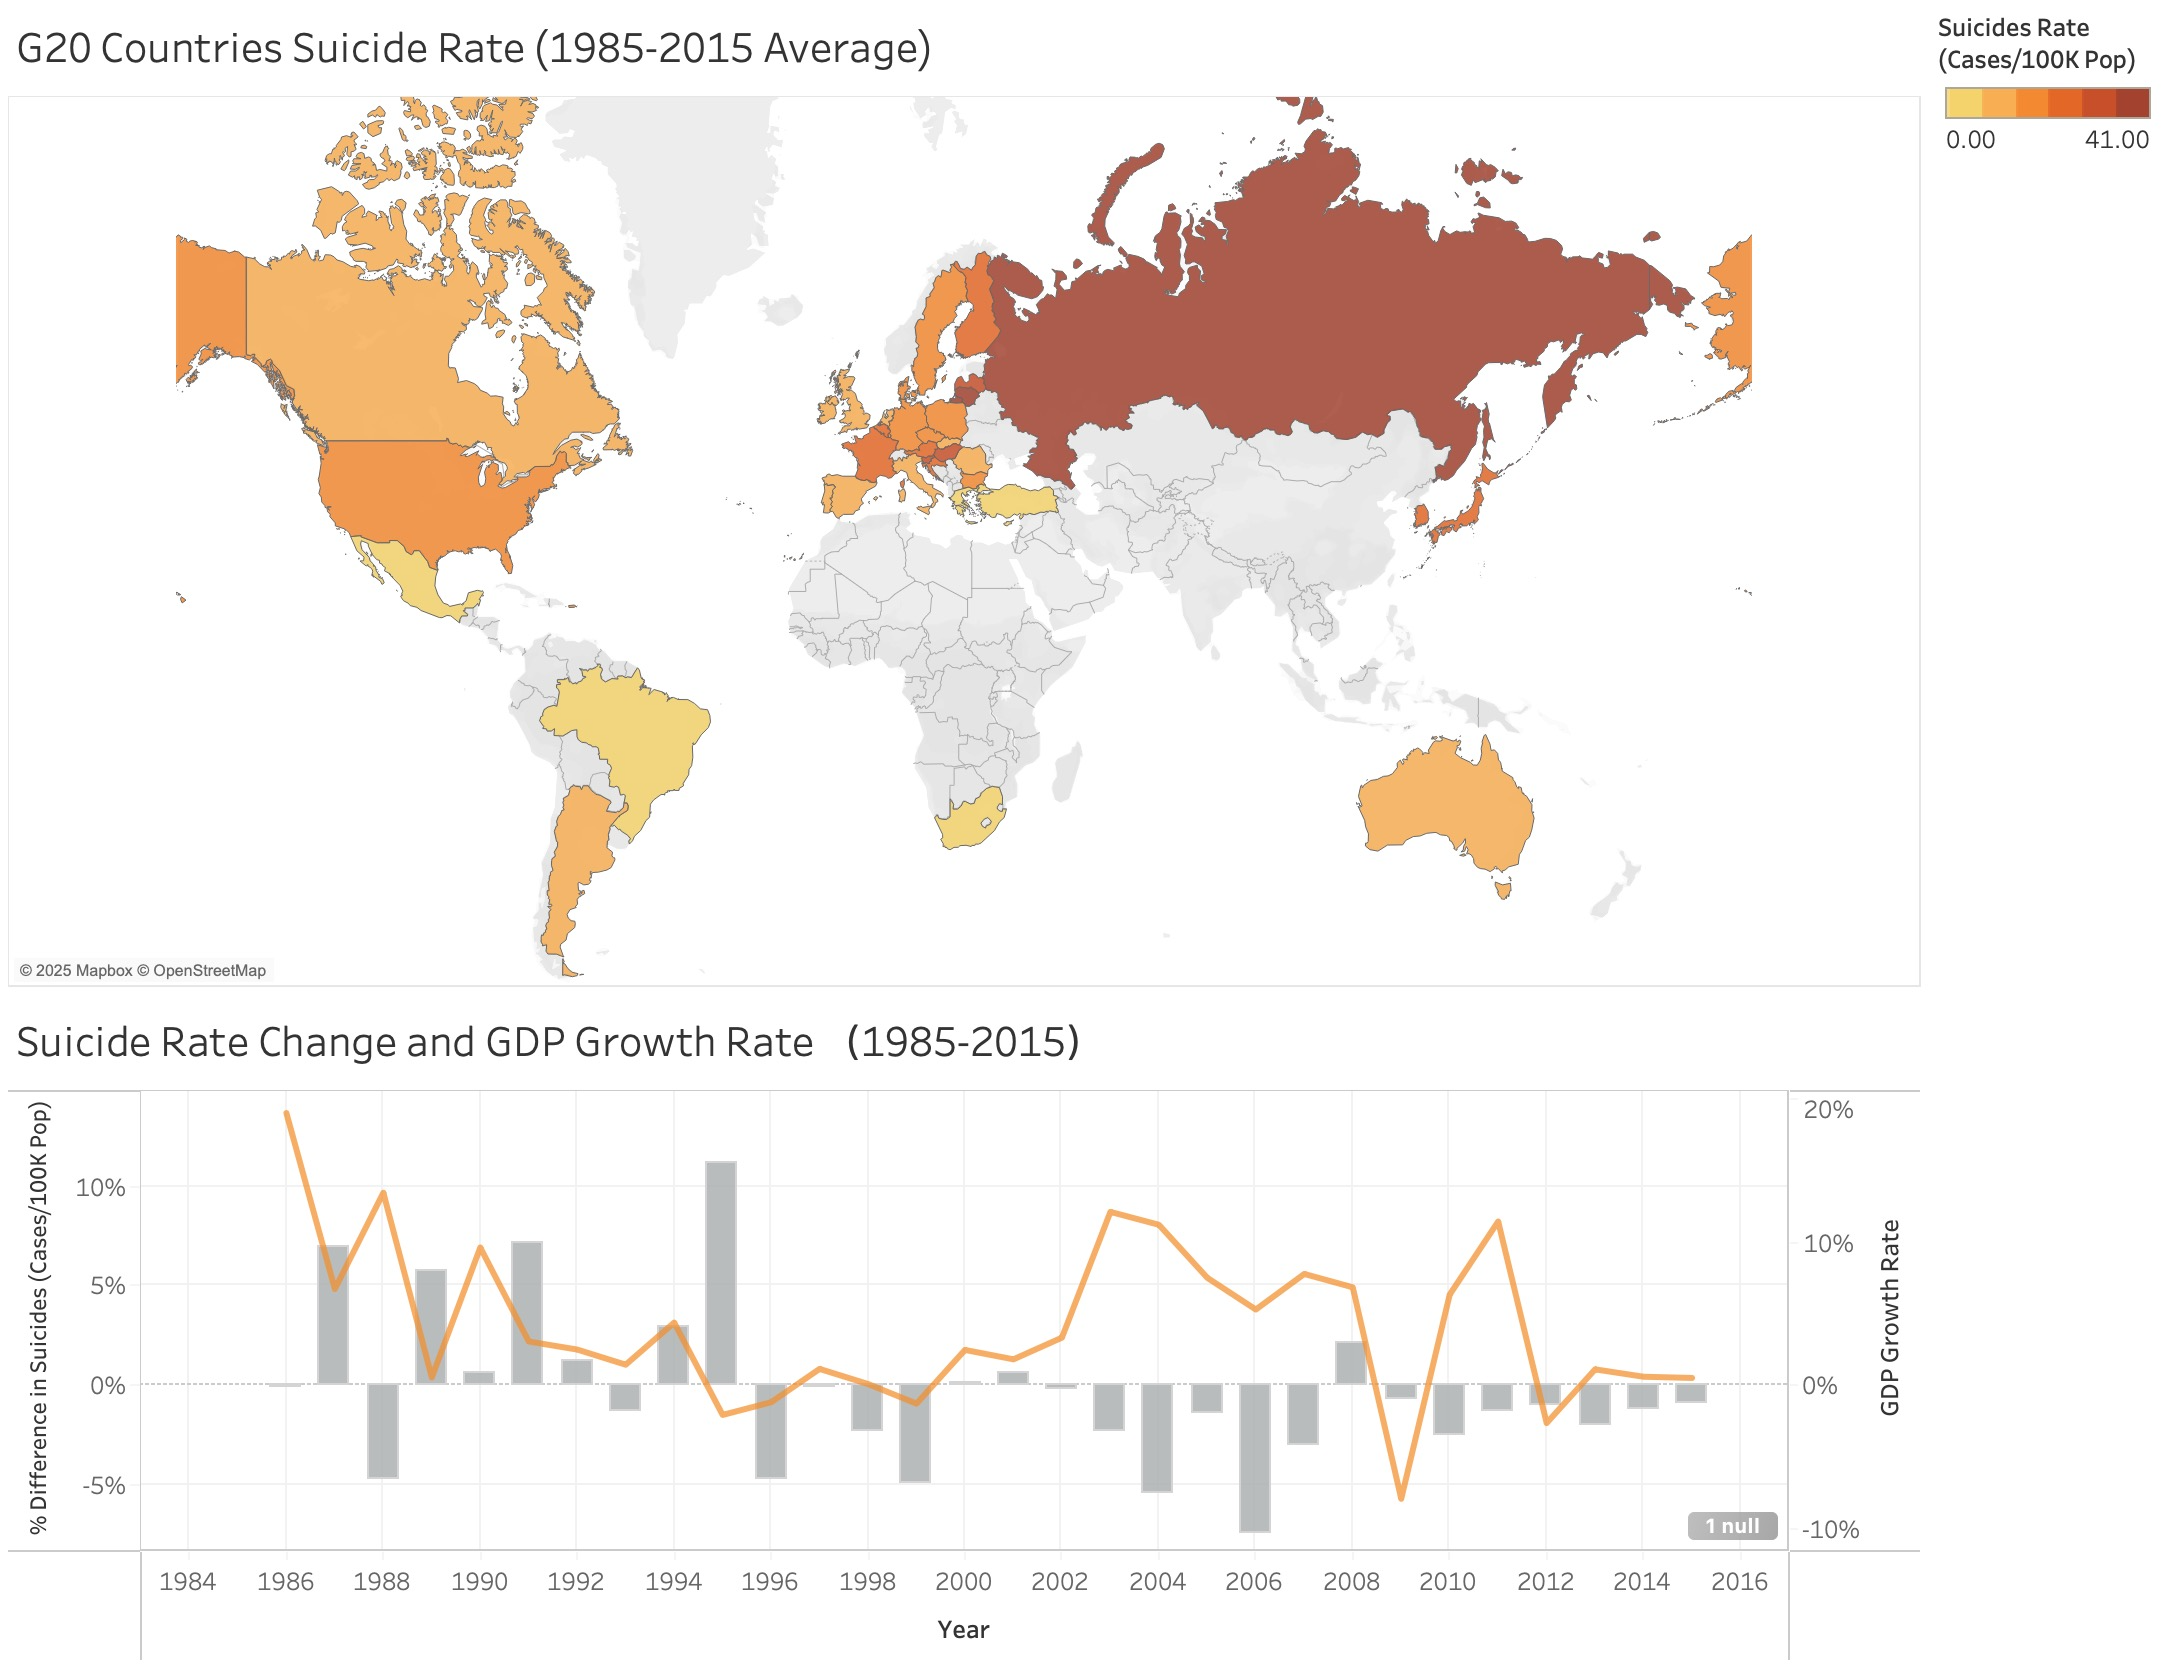

The page's visual inventory and layout, read from the dashboard file:
{"tool":"tableau","page":{"name":"G20 Countries Suicide Rate","canvas":[1100,850],"ordinal":0},"visuals":[{"type":"worksheet","box":[0,0,1100,850]},{"type":"worksheet","param":"horz","box":[8,8,965,834]},{"type":"worksheet","box":[8,8,965,834]},{"type":"worksheet","title":"Sheet 5","mark":"Automatic","box":[8,8,965,496.8]},{"type":"worksheet","title":"Sheet 5","mark":"Automatic","param":"[federated.0eobj8a02thxdw10rmqlj1v8tlth].[avg:suicides/100k pop:qk]","box":[973,8,119,834]},{"type":"worksheet","title":"Sheet 6","mark":"Automatic","rows":["suicides/100k pop","gdp_for_year ($) "],"cols":["year"],"box":[8,504.8,965,337.2]}]}

Visuals, with their boxes in screenshot pixels (x1, y1, x2, y2), scaled from the page's 1100x850 canvas onto the 2172x1670 screenshot:
worksheet: [x1=0, y1=0, x2=2171, y2=1669]
worksheet: [x1=16, y1=16, x2=1921, y2=1654]
worksheet: [x1=16, y1=16, x2=1921, y2=1654]
"Sheet 5" worksheet: [x1=16, y1=16, x2=1921, y2=992]
"Sheet 5" worksheet: [x1=1921, y1=16, x2=2156, y2=1654]
"Sheet 6" worksheet: [x1=16, y1=992, x2=1921, y2=1654]
